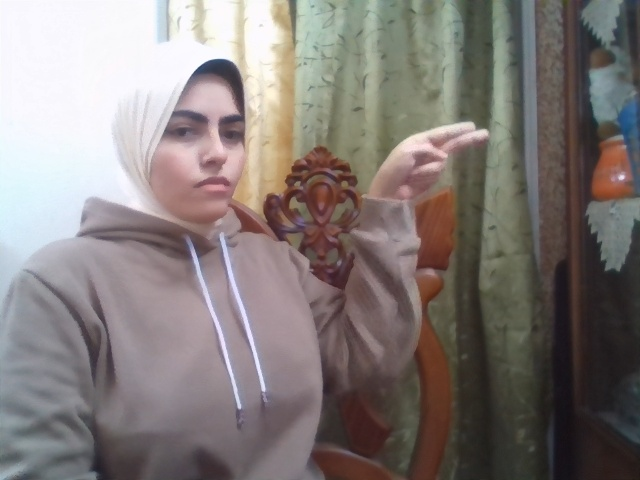H: (366, 121, 490, 200)
